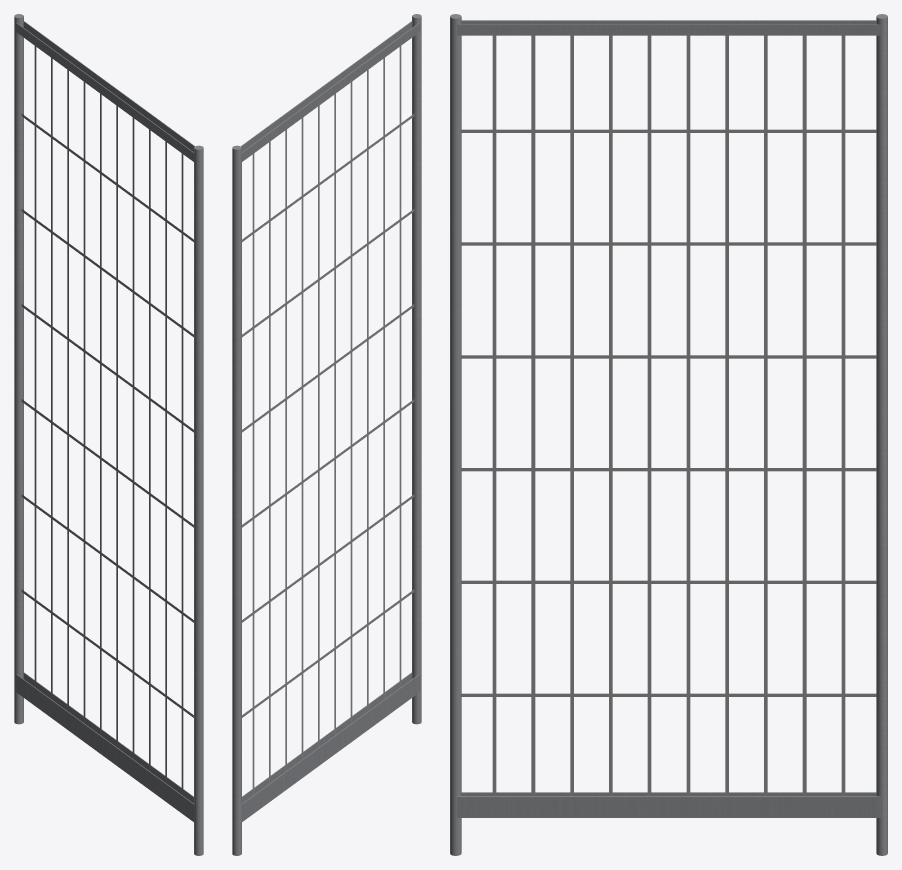
The model's file is SM_Fence_Panel_Short.FBX.
3 views of the same model, side by side, from view 1: azimuth 30°, elevation 25°; view 2: azimuth 150°, elevation 25°; view 3: azimuth 270°, elevation 25° (orthographic). The views are drawn at different scales.
Parts seen in each view (by area): view 1: Fence_Panel_Short_LOD0; view 2: Fence_Panel_Short_LOD0; view 3: Fence_Panel_Short_LOD0.
Part boxes in pixels (box(x1,y1,x2,y2)): Fence_Panel_Short_LOD0: box(14, 14, 203, 855); Fence_Panel_Short_LOD0: box(232, 14, 421, 855); Fence_Panel_Short_LOD0: box(450, 14, 887, 855).
Size of what is drawn, in the model's own units: 0.025 by 2 by 0.9483.
